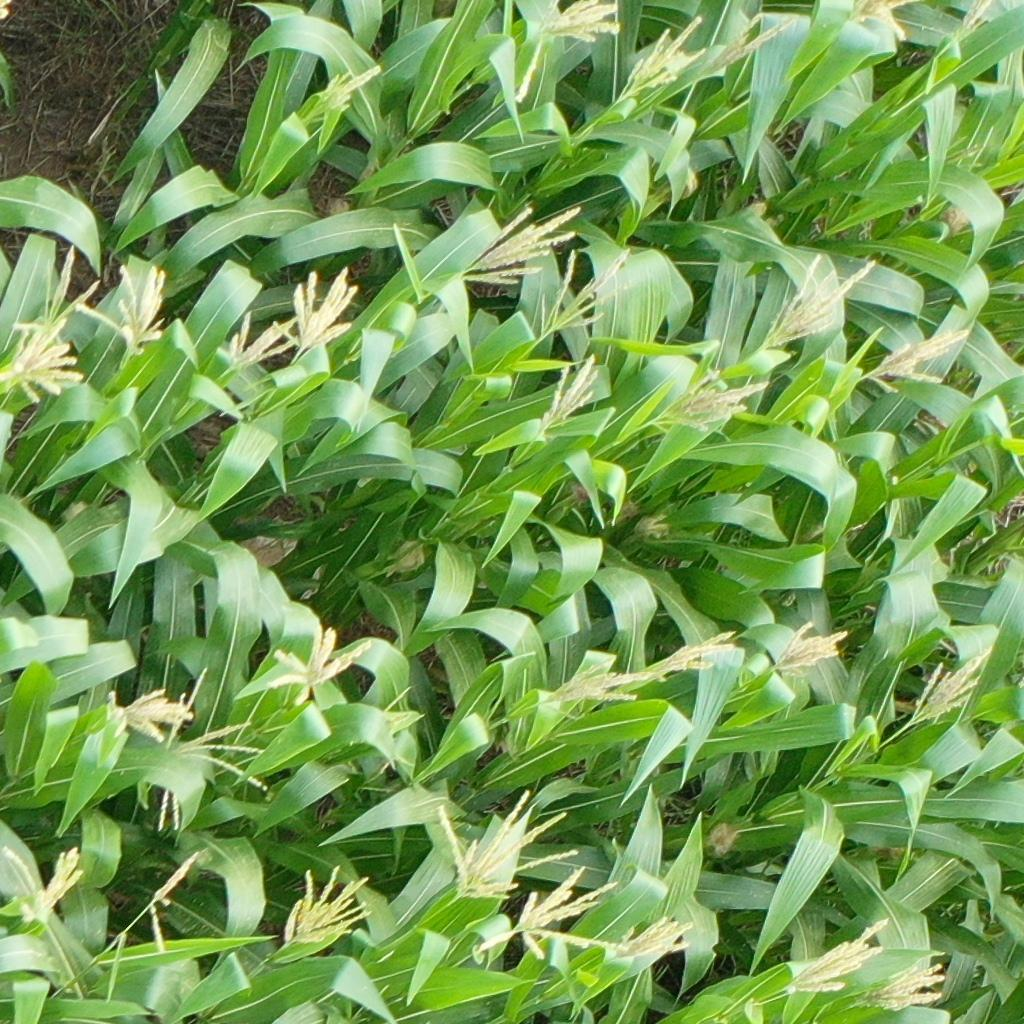Tassel: (151, 668, 264, 832), (437, 789, 579, 901), (475, 864, 627, 960), (759, 252, 878, 350), (515, 1, 625, 101), (454, 203, 582, 285), (77, 263, 170, 369), (776, 917, 890, 998), (539, 242, 632, 335), (261, 629, 372, 705), (283, 863, 374, 952), (1, 318, 88, 409), (903, 646, 994, 729), (652, 371, 769, 435), (861, 328, 972, 394), (270, 266, 359, 348), (19, 247, 102, 332), (2, 844, 85, 927), (539, 656, 653, 715), (619, 16, 705, 92), (148, 849, 201, 960), (215, 309, 303, 373), (712, 13, 796, 74), (858, 955, 946, 1013), (301, 63, 383, 125), (101, 690, 196, 742), (769, 621, 851, 681), (655, 629, 737, 683), (540, 354, 596, 433), (608, 916, 695, 960), (372, 686, 424, 741), (936, 134, 986, 172), (951, 1, 995, 43), (852, 1, 918, 24)
